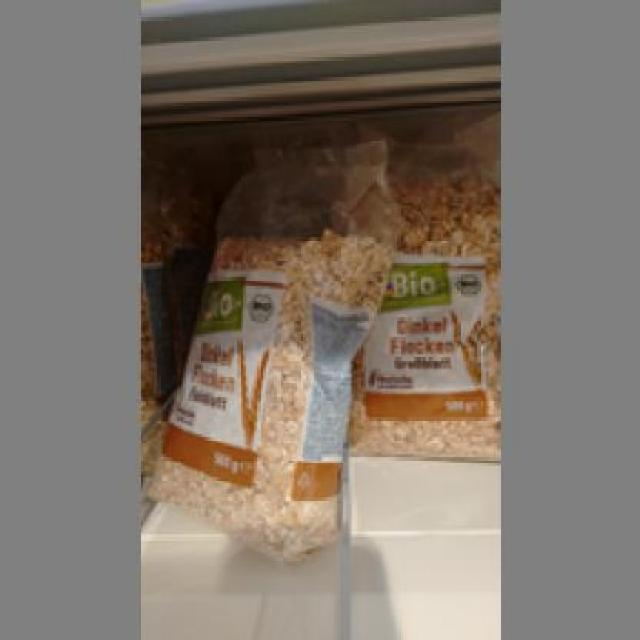Cereal: (146, 188, 383, 554), (342, 152, 498, 458)
